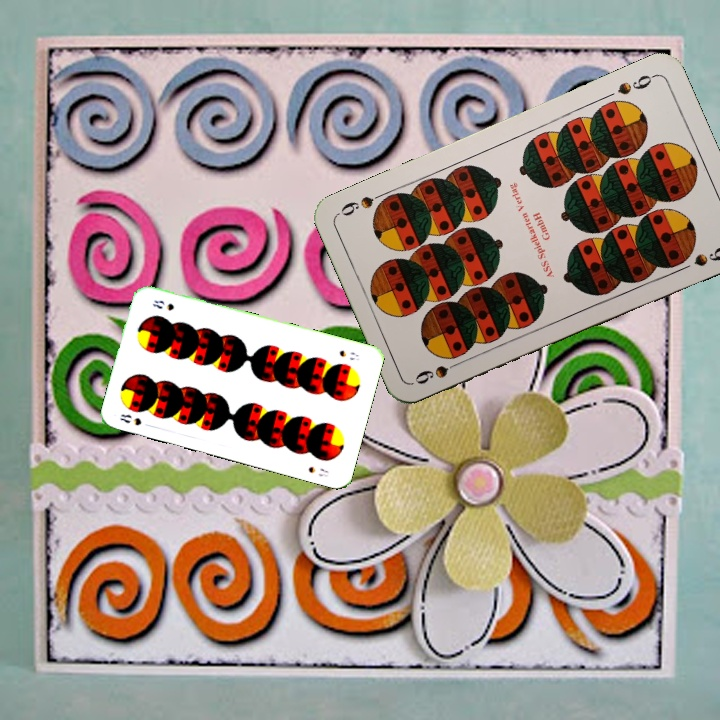S8: (116, 410, 144, 428), (335, 346, 362, 363)
S9: (410, 355, 467, 387), (613, 70, 659, 98)
